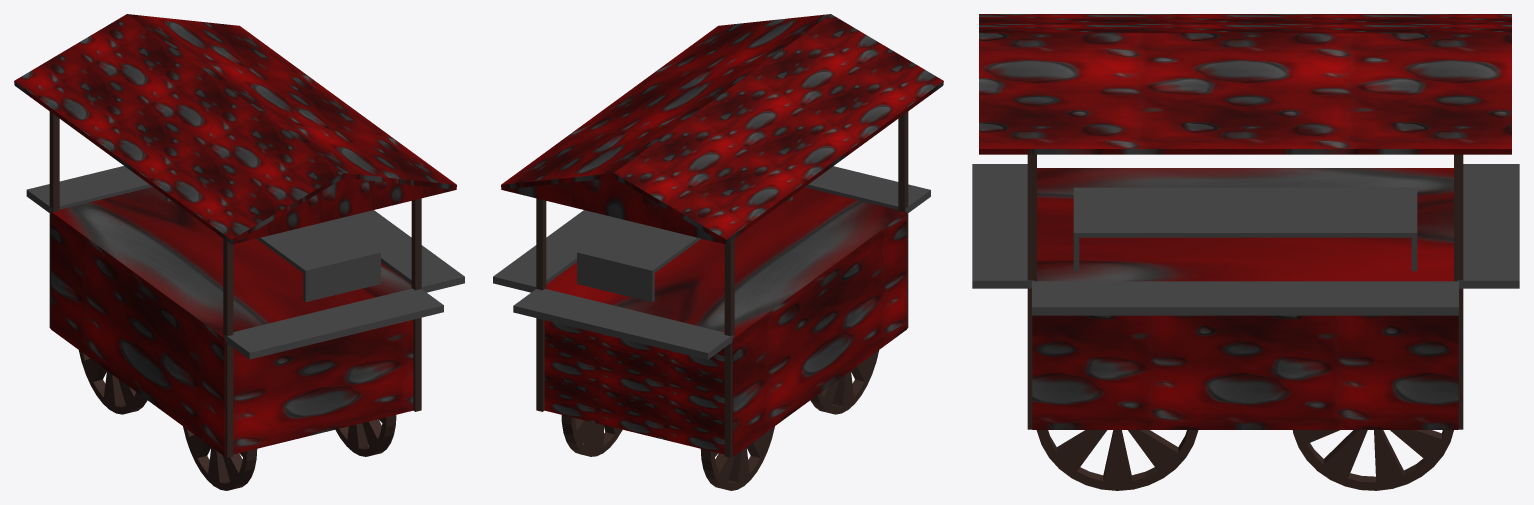
Rendered from Street Vendor cart.fbx.
3 views of the same model, side by side, from view 1: azimuth 30°, elevation 25°; view 2: azimuth 150°, elevation 25°; view 3: azimuth 270°, elevation 25° (orthographic). The views are drawn at different scales.
Parts seen in each view (by area): view 1: Cube, Plane, Cube.003, Plane.001, Cube.001, Cube.002, Circle.003, Cube.006, Cube.004, Circle.002, Circle.001, Cube.007; view 2: Cube, Plane, Cube.002, Plane.001, Cube.001, Cube.003, Circle.002, Cube.007, Cube.005, Circle.003, Circle, Cube.006; view 3: Cube, Plane, Plane.001, Cube.001, Cube.002, Cube.003, Circle, Circle.001, Cube.005, Cube.004.
Part boxes in pixels (x1=…): Cube: x1=51, y1=187, x2=413, y2=456; Plane: x1=14, y1=14, x2=456, y2=244; Cube.003: x1=224, y1=288, x2=443, y2=359; Plane.001: x1=165, y1=196, x2=380, y2=302; Cube.001: x1=336, y1=210, x2=464, y2=292; Cube.002: x1=26, y1=166, x2=152, y2=213; Circle.003: x1=183, y1=426, x2=257, y2=490; Cube.006: x1=223, y1=238, x2=233, y2=457; Cube.004: x1=411, y1=198, x2=421, y2=411; Circle.002: x1=78, y1=350, x2=147, y2=414; Circle.001: x1=335, y1=415, x2=396, y2=456; Cube.007: x1=49, y1=111, x2=59, y2=328; Cube: x1=544, y1=187, x2=906, y2=456; Plane: x1=501, y1=14, x2=943, y2=244; Cube.002: x1=513, y1=289, x2=733, y2=359; Plane.001: x1=577, y1=196, x2=792, y2=302; Cube.001: x1=493, y1=210, x2=621, y2=292; Cube.003: x1=805, y1=166, x2=930, y2=213; Circle.002: x1=700, y1=426, x2=774, y2=490; Cube.007: x1=724, y1=238, x2=734, y2=457; Cube.005: x1=536, y1=198, x2=546, y2=411; Circle.003: x1=810, y1=350, x2=879, y2=414; Circle: x1=561, y1=415, x2=622, y2=456; Cube.006: x1=898, y1=111, x2=908, y2=328; Cube: x1=1032, y1=168, x2=1458, y2=429; Plane: x1=979, y1=14, x2=1511, y2=154; Plane.001: x1=1073, y1=187, x2=1417, y2=271; Cube.001: x1=1032, y1=281, x2=1458, y2=315; Cube.002: x1=1457, y1=164, x2=1519, y2=288; Cube.003: x1=972, y1=164, x2=1034, y2=288; Circle: x1=1292, y1=430, x2=1453, y2=490; Circle.001: x1=1036, y1=430, x2=1198, y2=490; Cube.005: x1=1454, y1=154, x2=1463, y2=429; Cube.004: x1=1027, y1=154, x2=1036, y2=429.
Size of the model in its own units: 678 by 854 by 1026.
3 materials, 1 textured.
